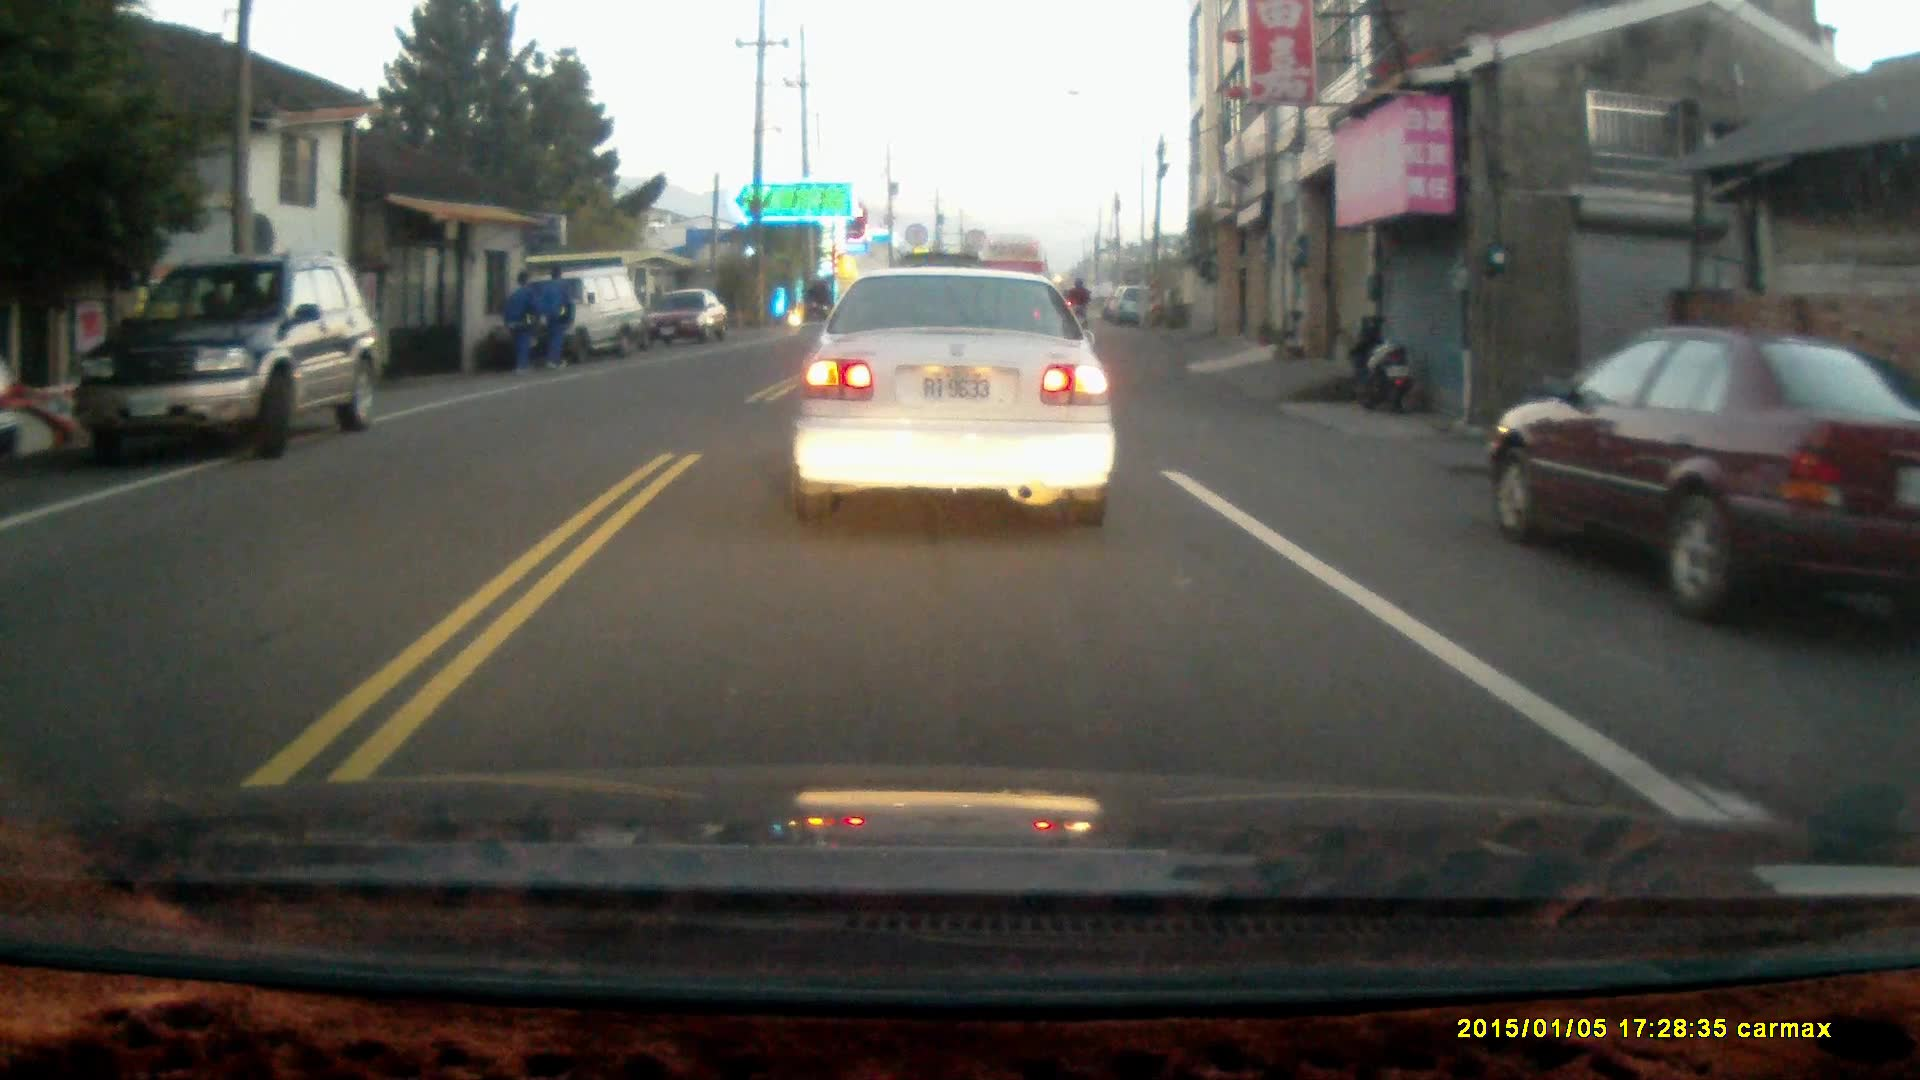pedestrian: (502, 270, 539, 383), (540, 260, 574, 373)
vehicle: (1497, 330, 1918, 630), (789, 267, 1118, 536), (75, 256, 376, 462), (522, 269, 657, 362), (637, 291, 730, 355)
